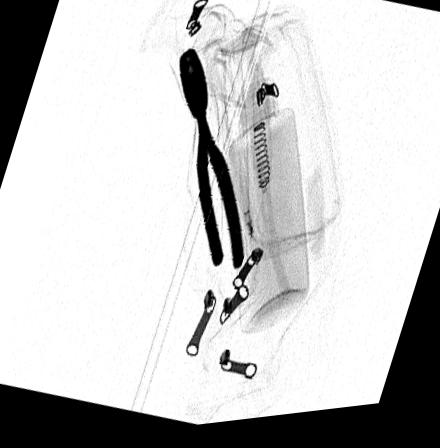Pliers: (177, 51, 245, 275)
